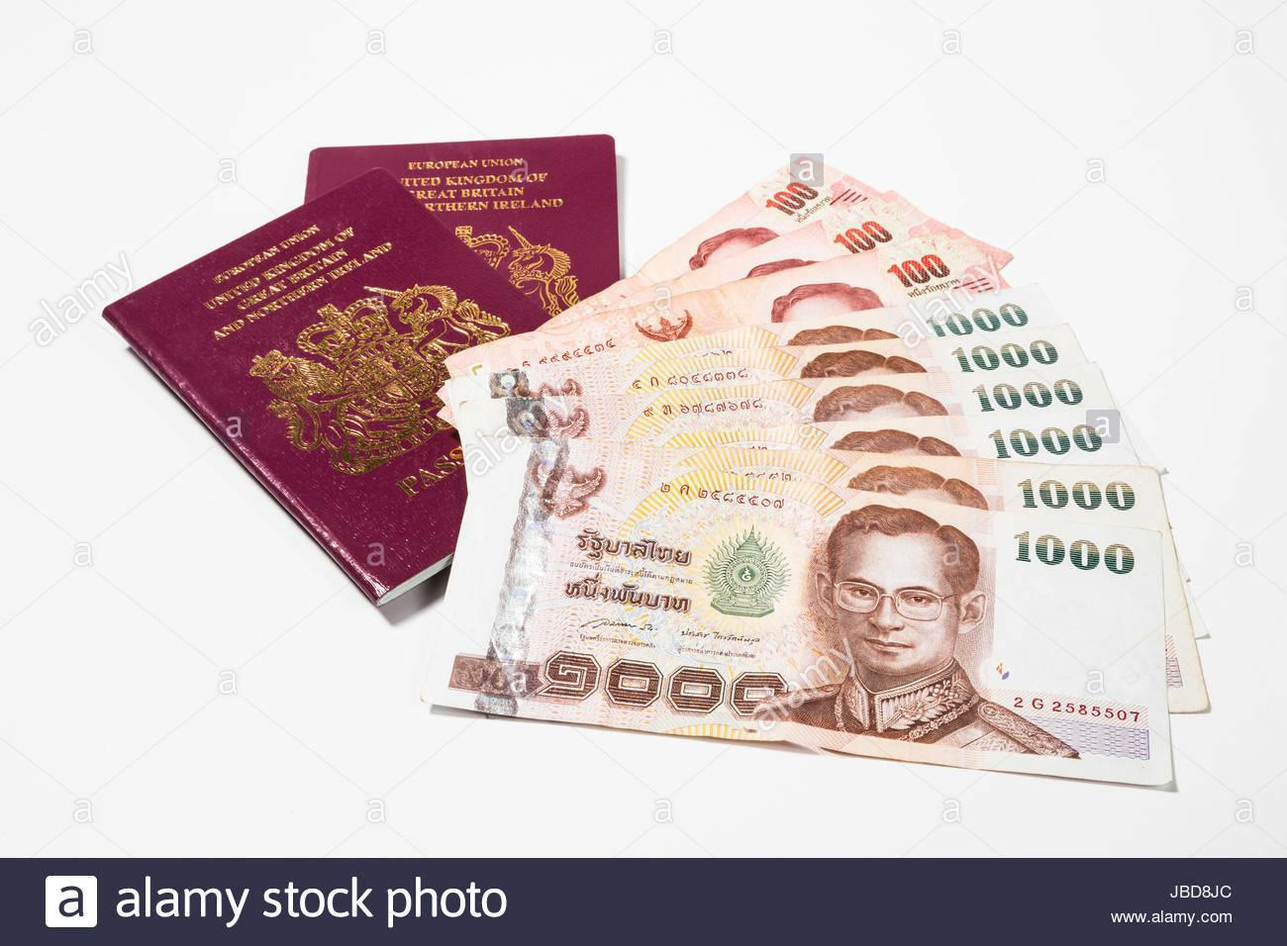1000BahtTai: (416, 498, 1162, 796)
